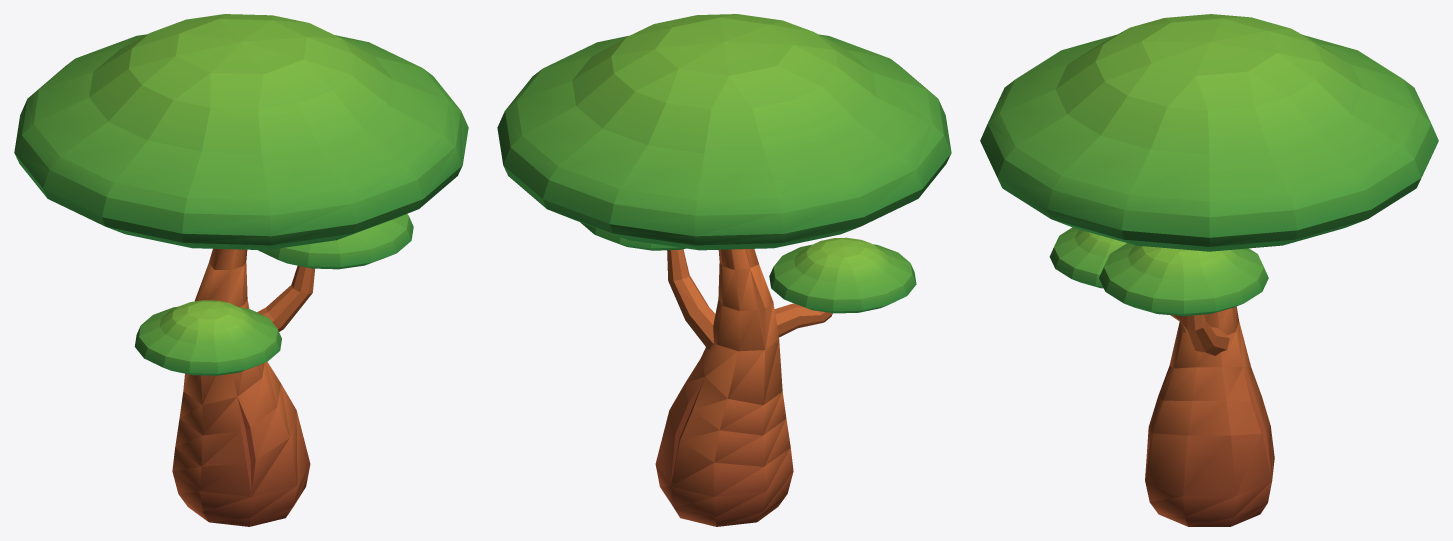
File: kf_tree_3_a.fbx
3 views of the same model, side by side, from view 1: azimuth 30°, elevation 25°; view 2: azimuth 150°, elevation 25°; view 3: azimuth 270°, elevation 25° (orthographic).
Visible parts, largest first — view 1: kf_tree_3_a_LOD0; view 2: kf_tree_3_a_LOD0; view 3: kf_tree_3_a_LOD0.
Boxes of the visible parts, x1,y1,x2,y2 form: kf_tree_3_a_LOD0: [14, 14, 468, 526]; kf_tree_3_a_LOD0: [497, 14, 951, 526]; kf_tree_3_a_LOD0: [980, 14, 1438, 526].
Size of what is drawn, in the model's own units: 3.56 by 4.03 by 3.56.
Materials: 1 (1 with a texture image).
